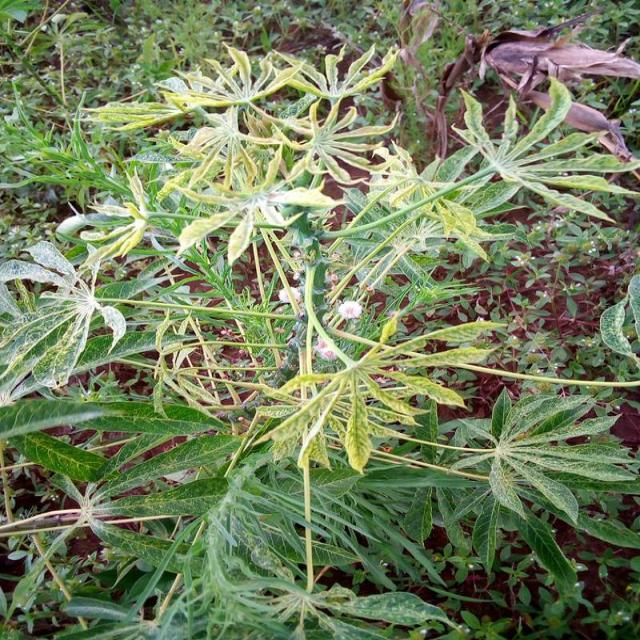cassava leaf: (1, 36, 638, 637)
